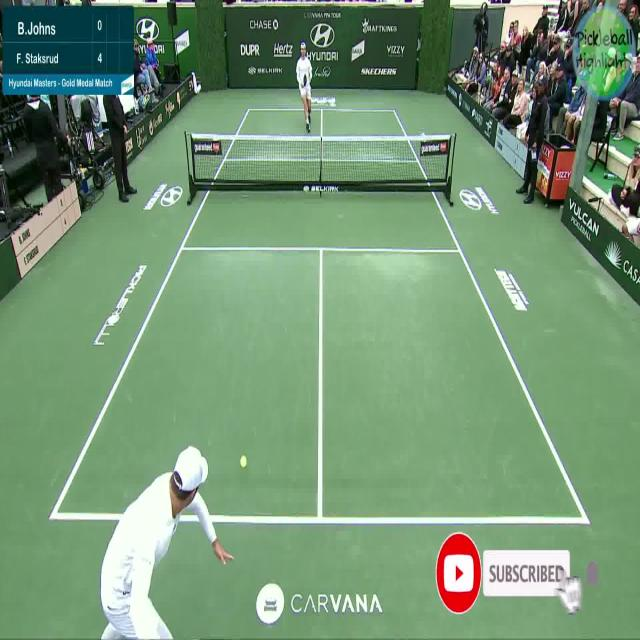ball: (239, 454, 247, 468)
